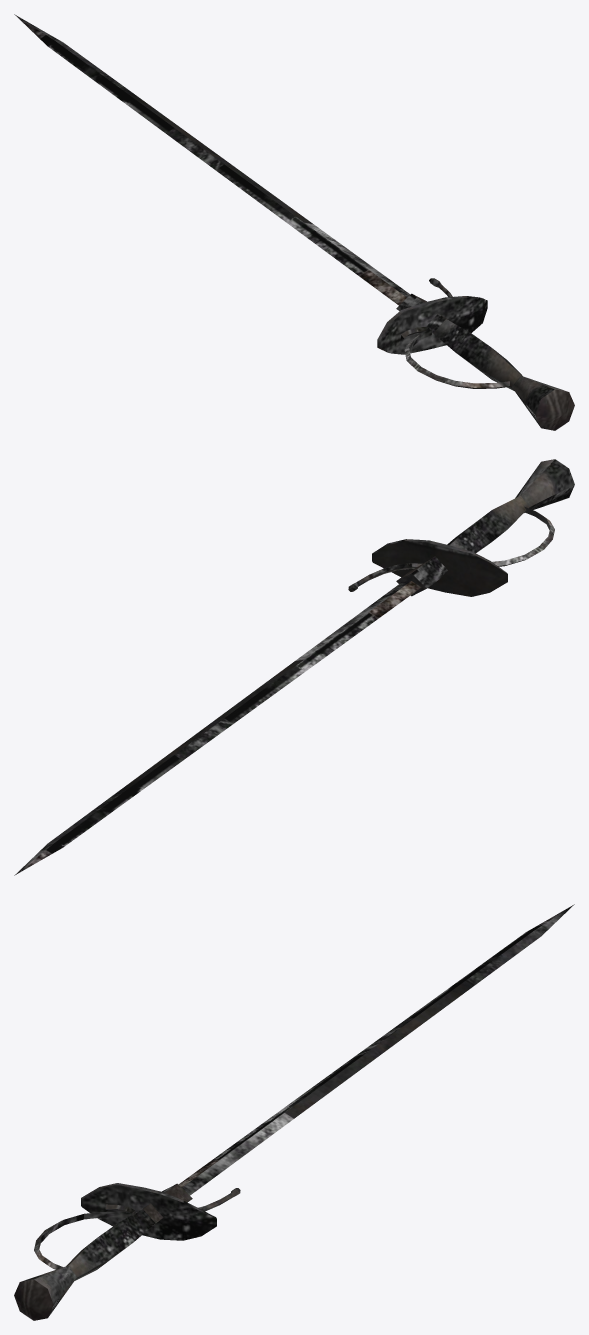
The picture shows the model from 3 angles, top to bottom: view 1: azimuth 30°, elevation 25°; view 2: azimuth 150°, elevation 25°; view 3: azimuth 330°, elevation 25°; orthographic projection.
Visible parts, largest first — view 1: mesh_0; view 2: mesh_0; view 3: mesh_0.
Boxes of the visible parts, x1,y1,x2,y2 form: mesh_0: (14, 14, 574, 430); mesh_0: (14, 459, 574, 875); mesh_0: (14, 904, 574, 1320).
Size of the model in its own units: 5.25 by 1.85 by 40.32.
1 material, 1 textured.
